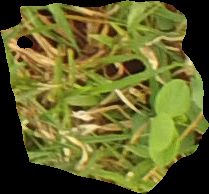grass: (1, 1, 208, 193)
